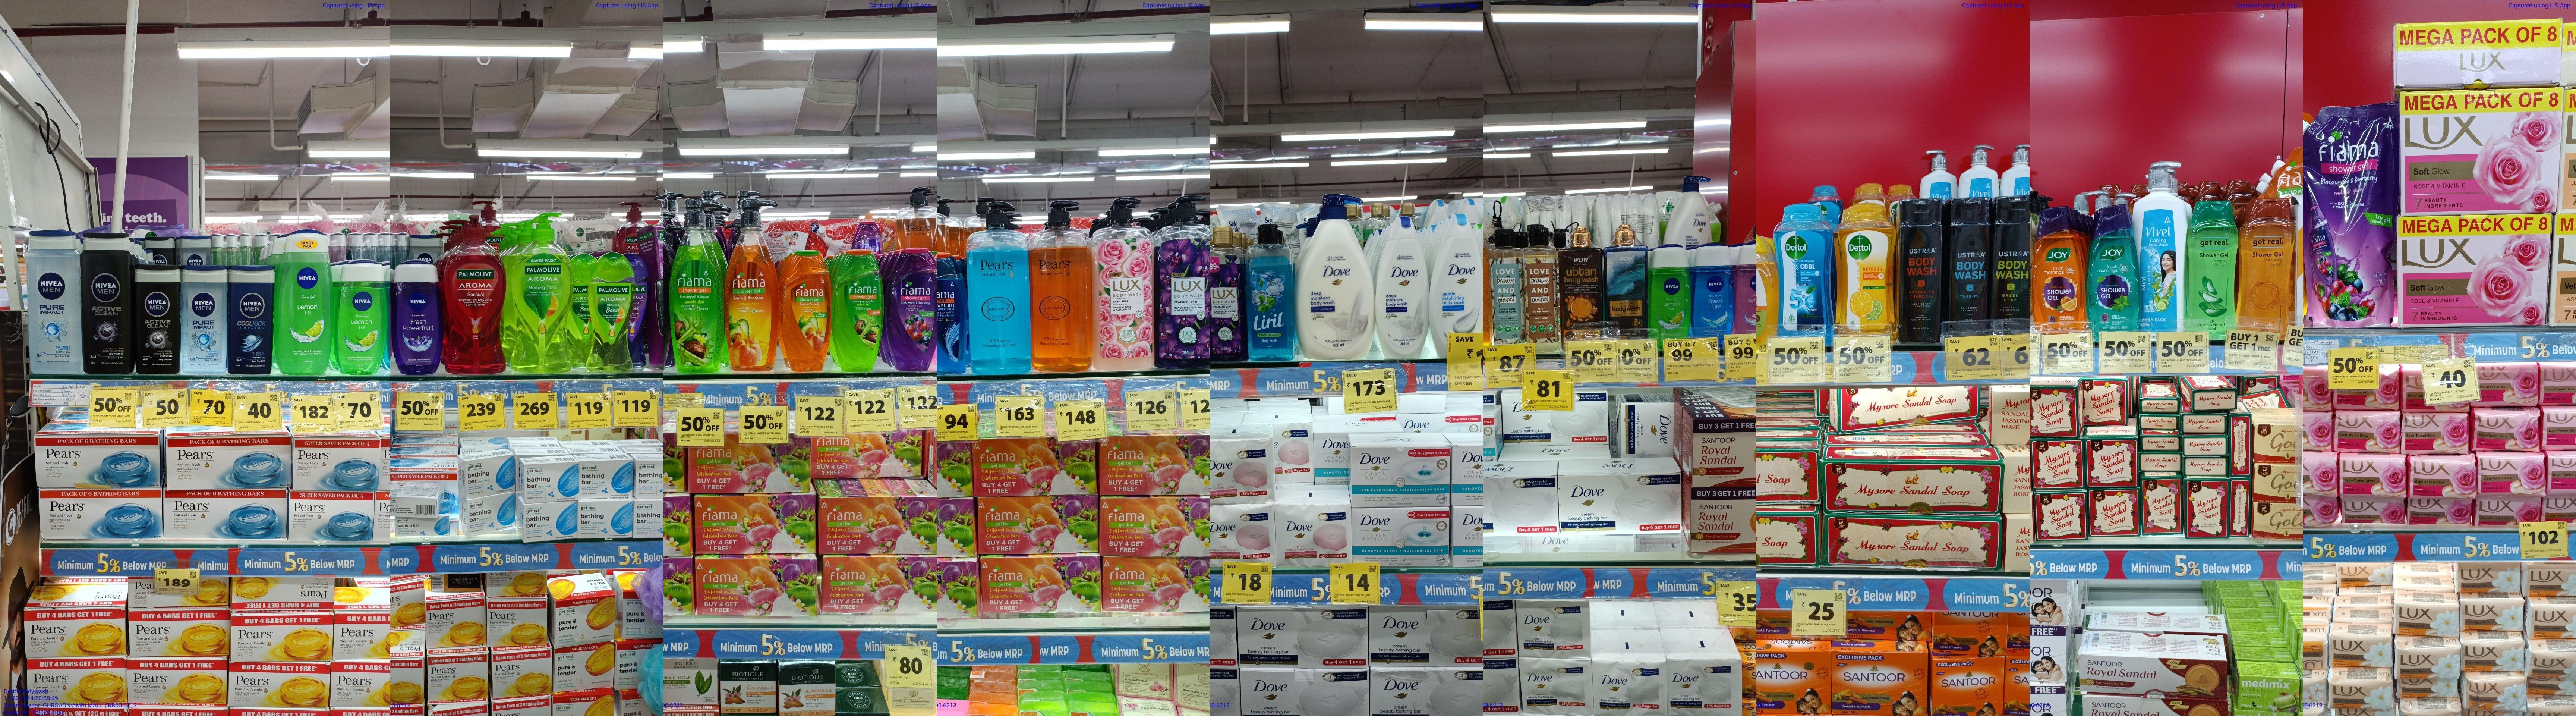Dettol_Bodywash_Cool: (1776, 204, 1833, 332)
Dettol_Bodywash_Refresh: (1837, 204, 1894, 328)
Dove_Deep_Moisture_Body_Wash_250ML: (1378, 218, 1428, 356)
Dove_Gentle_Exfoliating_Body_Wash_250ML: (1431, 215, 1482, 337)
Fiama_Shower_Gel_Lemongrass_and_Jojoba_250ML: (835, 250, 881, 371)
Fiama_Shower_Gel_Peach_and_Avocado_250ML: (780, 248, 828, 371)
Get_Real_Shower_Gel_Moisturising_Glycerin_300ML: (2239, 197, 2290, 332)
Joy_Shower_Gel_Mandarin_and_Lemongrass_250ML: (2037, 210, 2085, 335)
Joy_Shower_Gel_Mint_and_Eucalyptus_250ML: (2090, 204, 2141, 332)
Liril_Cooling_Mint_Body_Wash_250ML: (1245, 223, 1293, 360)
Nivea_Shower_Gel_Fresh_Powerfruit_250ML: (391, 255, 442, 374)
Nivea_Shower_Gel_Lemon_and_Oil_250ML: (276, 232, 330, 376), (337, 259, 383, 374)
Palmolive_Aroma_Morning_Tonic_Shower_Gel_250ML: (590, 250, 636, 376)
